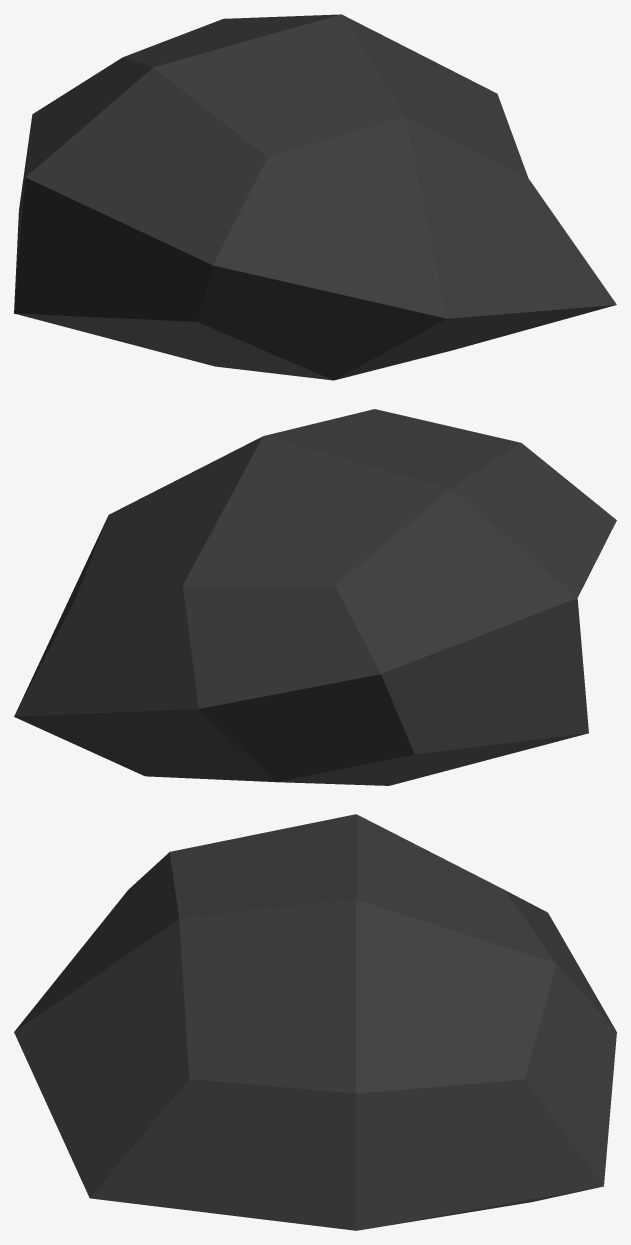
The model's file is 3DObj_stone_v1.fbx.
The picture shows the model from 3 angles, top to bottom: view 1: azimuth 30°, elevation 25°; view 2: azimuth 150°, elevation 25°; view 3: azimuth 270°, elevation 25°; orthographic projection.
Parts seen in each view (by area): view 1: 3DObj_stone_v1; view 2: 3DObj_stone_v1; view 3: 3DObj_stone_v1.
Part boxes in pixels (bbox=[...]): 3DObj_stone_v1: bbox=[14, 14, 616, 380]; 3DObj_stone_v1: bbox=[14, 409, 616, 785]; 3DObj_stone_v1: bbox=[14, 814, 616, 1230].
Bounding box in the file's own units: 41.14 × 24.72 × 41.88.
Materials: 1 (1 with a texture image).
